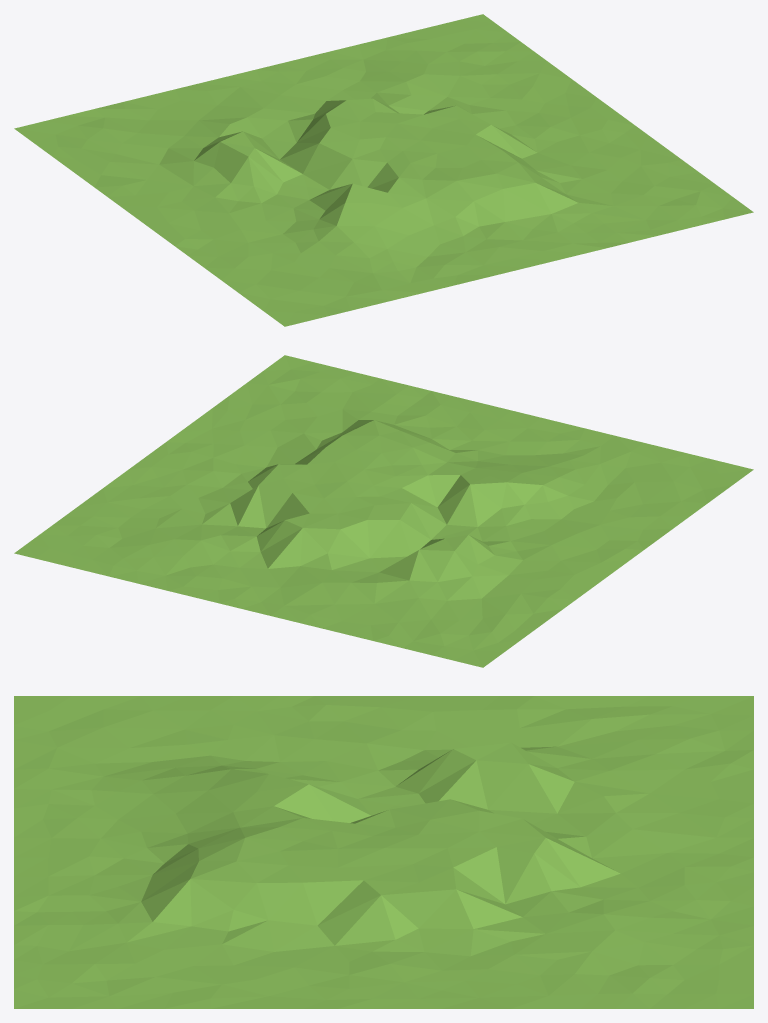
Rendered from MT_Terrain_M_d_01_LOD.fbx.
3 views of the same model, one above another, from view 1: azimuth 30°, elevation 25°; view 2: azimuth 150°, elevation 25°; view 3: azimuth 270°, elevation 25° (orthographic). The views are drawn at different scales.
Visible parts, largest first — view 1: MT_Terrain_M_d_01_LOD0; view 2: MT_Terrain_M_d_01_LOD0; view 3: MT_Terrain_M_d_01_LOD0.
Part boxes in pixels (<box>): MT_Terrain_M_d_01_LOD0: <box>14,14,753,326</box>; MT_Terrain_M_d_01_LOD0: <box>14,355,753,667</box>; MT_Terrain_M_d_01_LOD0: <box>14,696,753,1008</box>.
Size of what is drawn, in the model's own units: 5000 by 259 by 5000.
